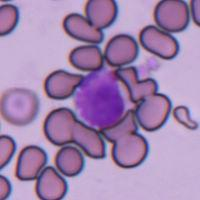L: (74, 68, 130, 130)
